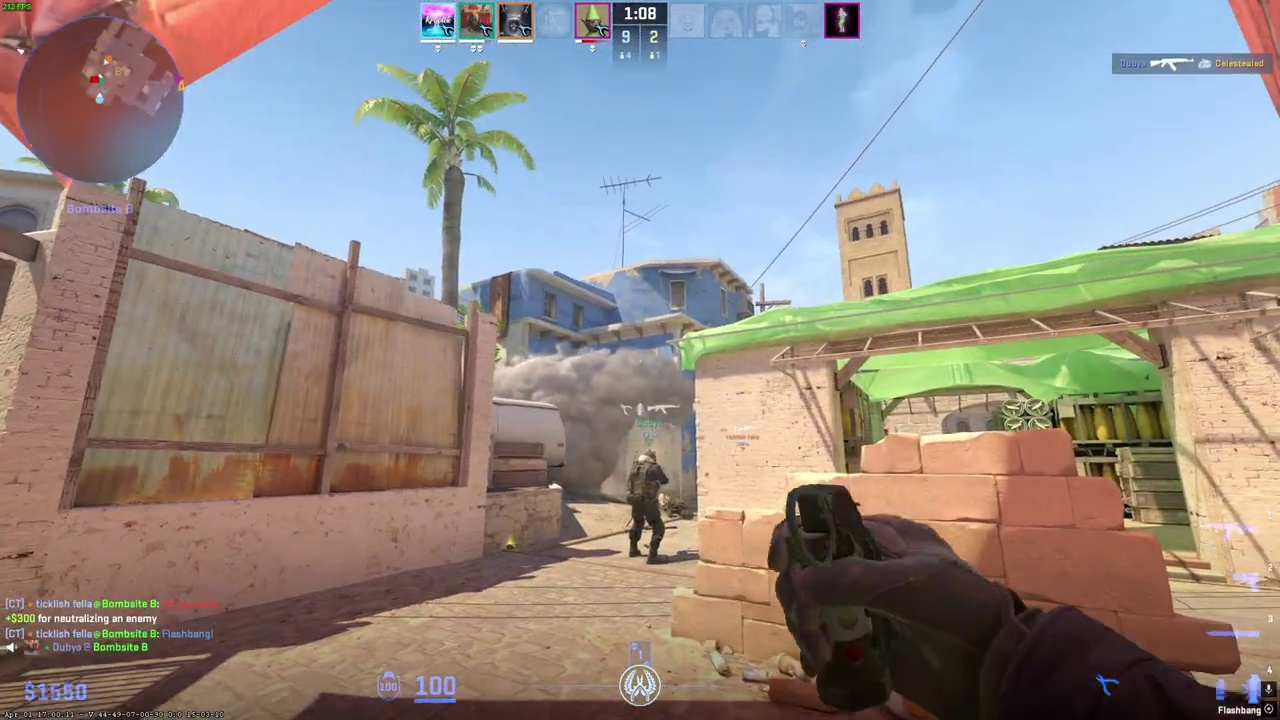CT: (623, 448, 670, 564)
